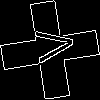V: (25, 25, 76, 66)
